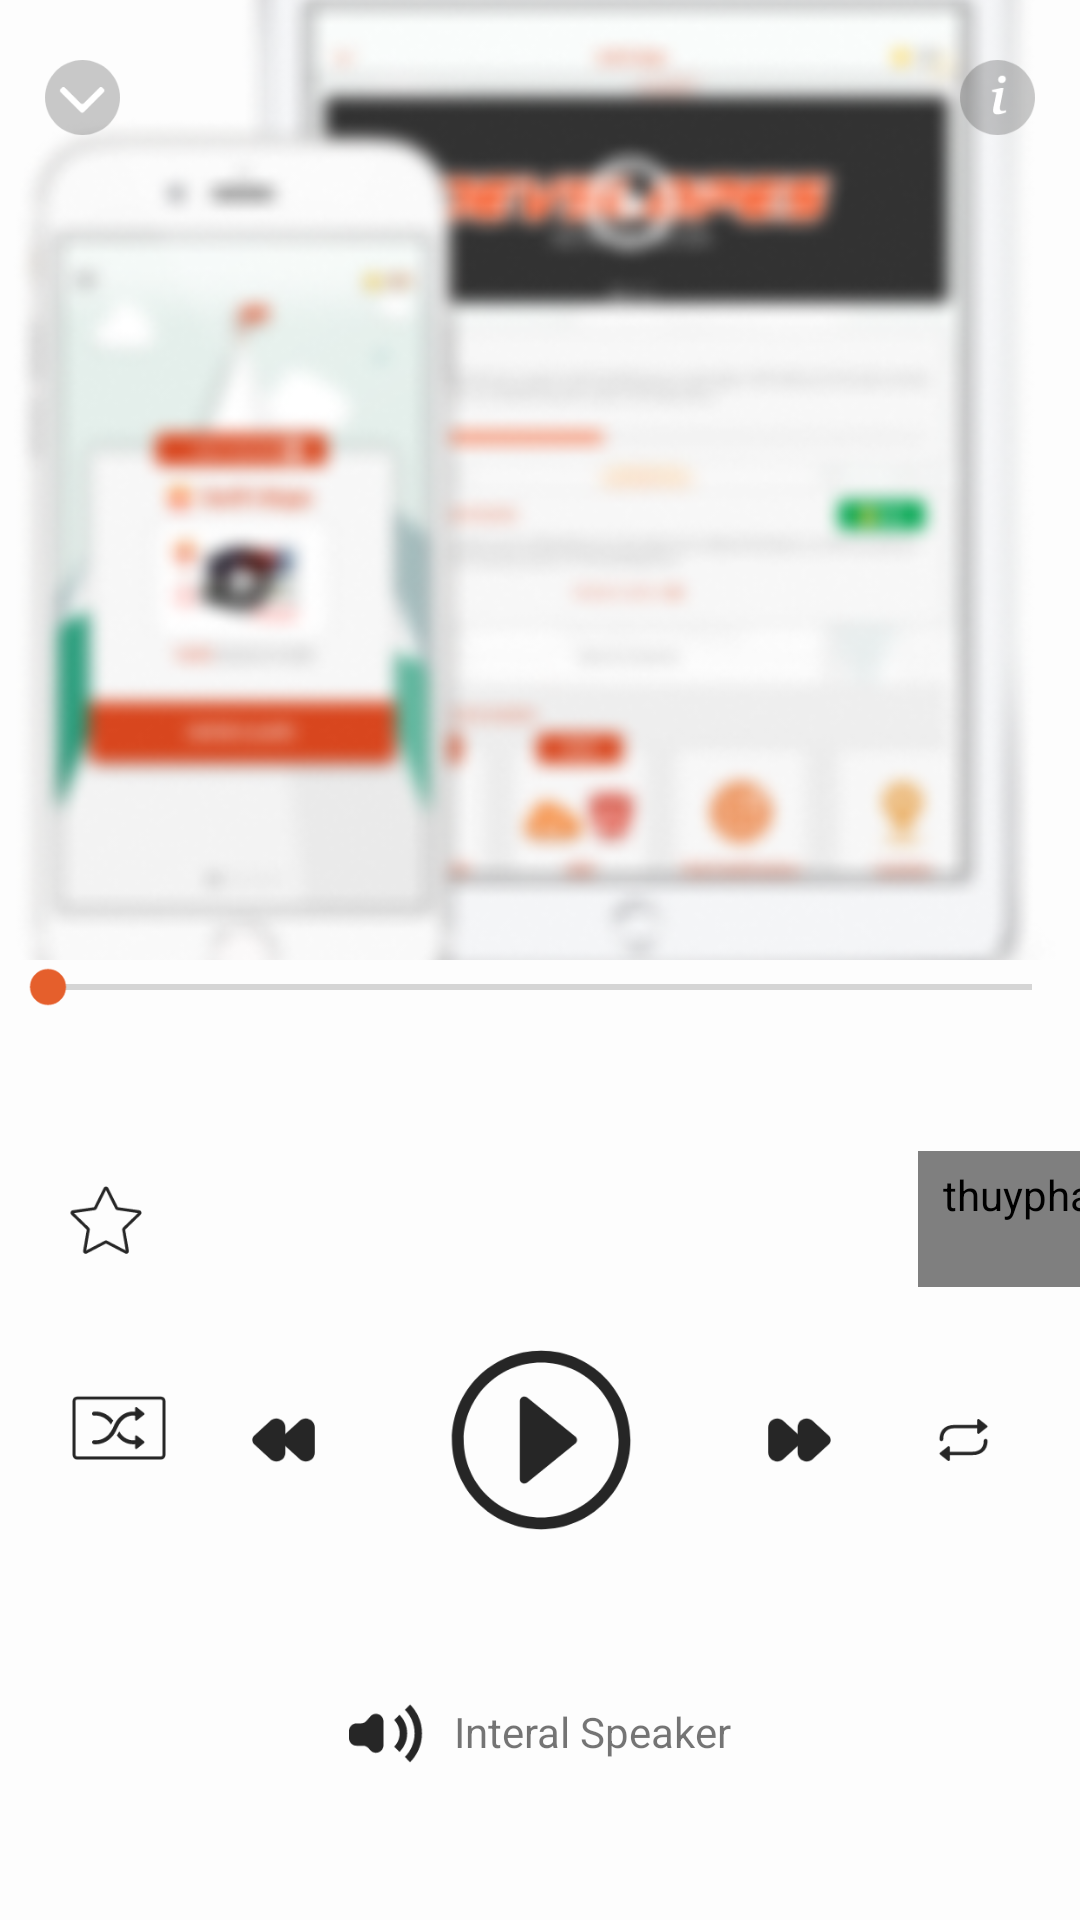

Icons on this 1080px×1920px Android screen, each with the point to tap as point (x, y):
dismiss music: point (82, 97)
favorite: point (106, 1220)
info: point (982, 97)
play: point (541, 1440)
repeat: point (963, 1440)
shuffle: point (119, 1428)
